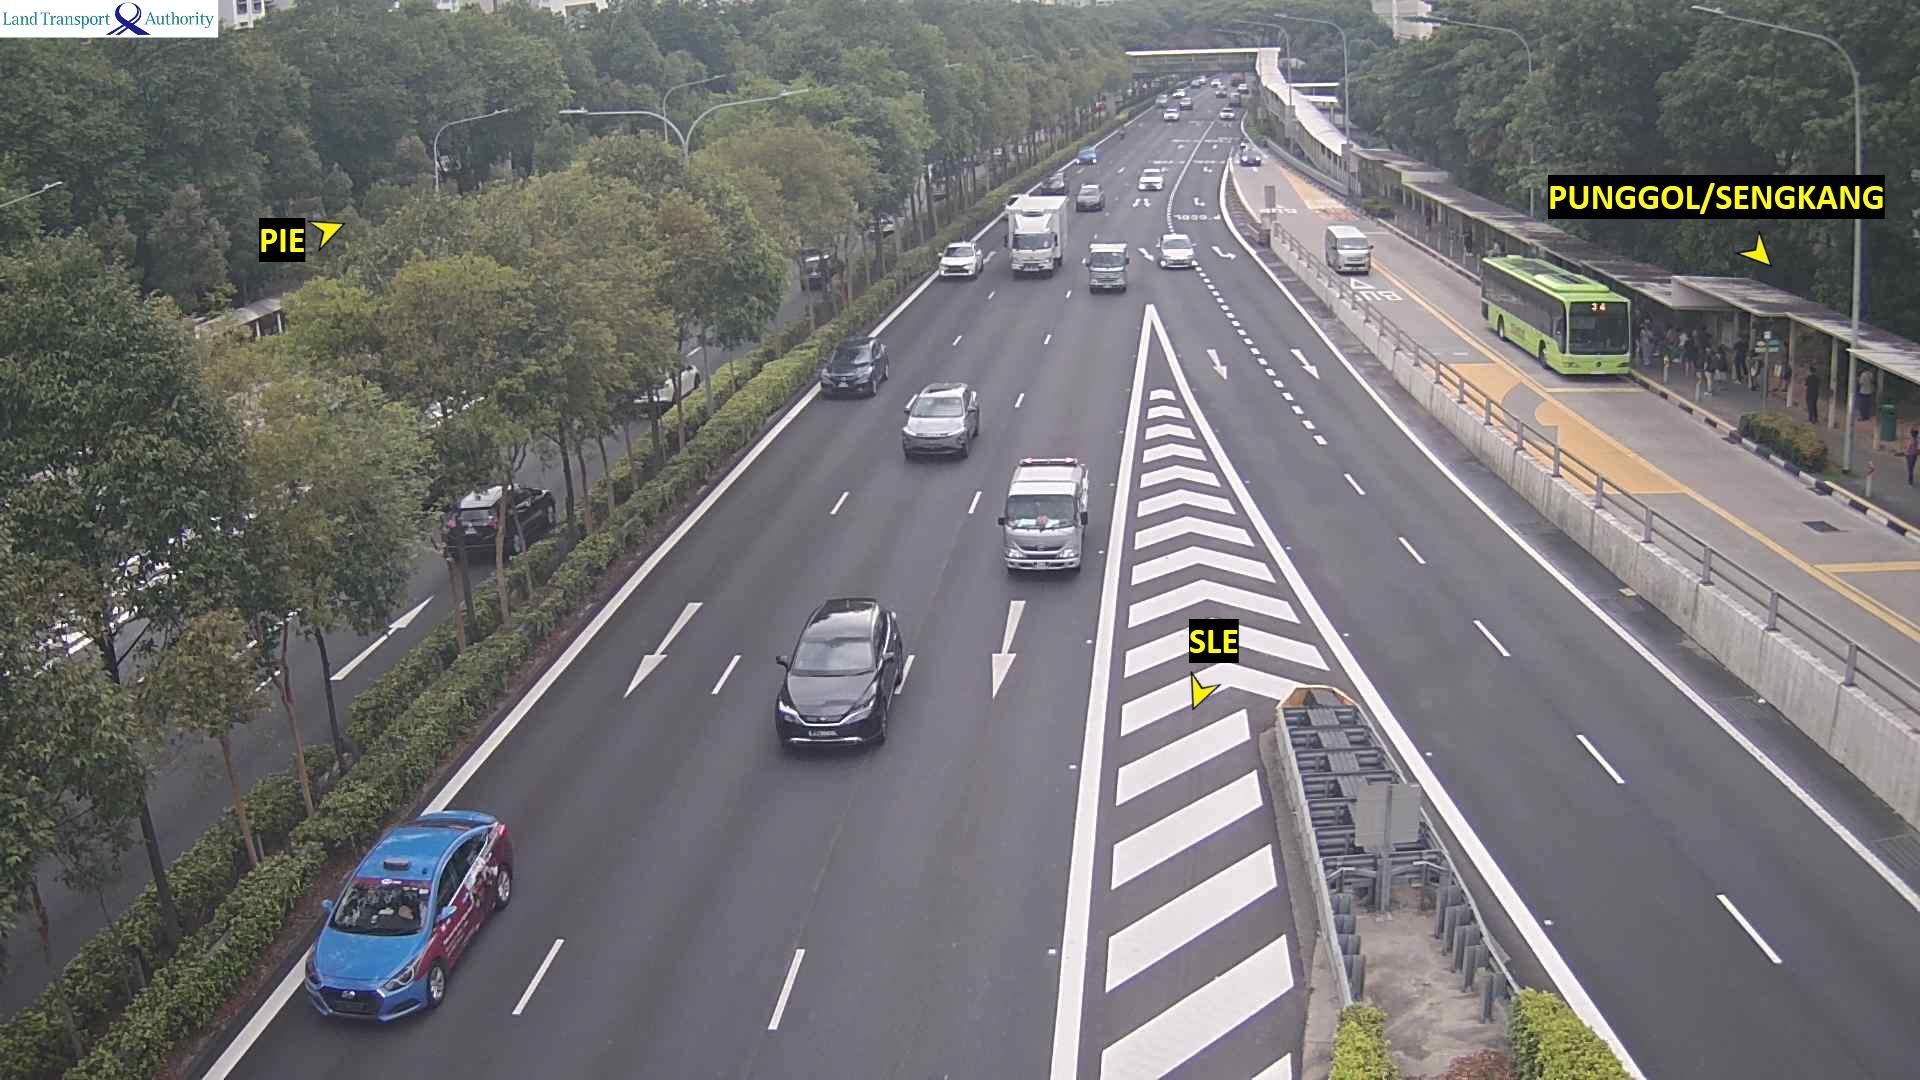bus: (1478, 253, 1633, 377)
cars: (302, 807, 513, 1024), (773, 595, 908, 750), (996, 455, 1089, 574), (438, 481, 555, 562), (900, 380, 979, 461), (619, 360, 700, 418), (818, 333, 889, 397), (1323, 224, 1373, 274), (1082, 240, 1128, 292), (936, 240, 982, 279), (796, 246, 832, 290), (1155, 231, 1196, 269), (1075, 181, 1103, 210), (1236, 142, 1263, 166), (1137, 167, 1164, 190), (1044, 173, 1066, 192), (1076, 145, 1097, 164), (1162, 105, 1179, 121), (1218, 105, 1235, 120), (1179, 95, 1194, 109), (1154, 92, 1168, 106)
trucks: (1007, 196, 1065, 276)
